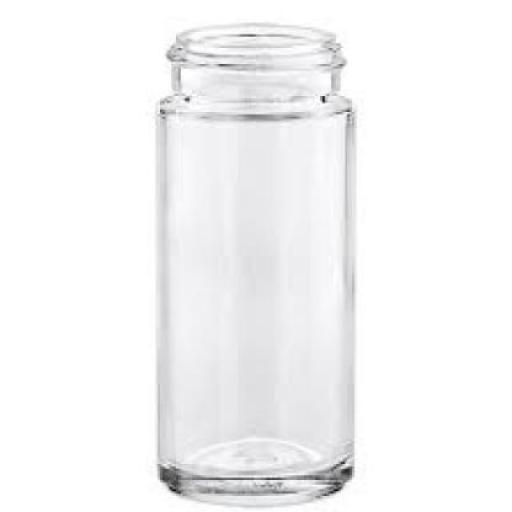glass: (160, 20, 357, 500)
